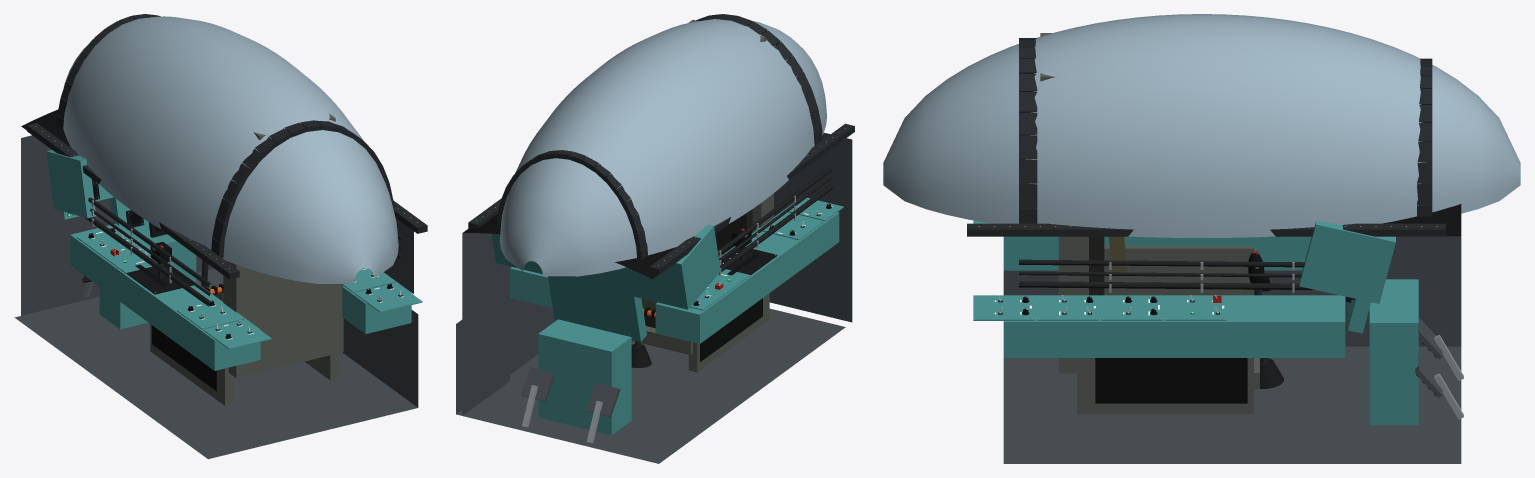
File: kit_flanker.glb
3 renders of one model, left to right at view 1: azimuth 30°, elevation 25°; view 2: azimuth 150°, elevation 25°; view 3: azimuth 270°, elevation 25°, orthographic. The views are drawn at different scales.
Parts seen in each view (by area): view 1: cockpit, CANOPY_GLASS; view 2: cockpit, CANOPY_GLASS, STICK; view 3: cockpit, CANOPY_GLASS, STICK.
Part boxes in pixels (x1,y1,x2,y2): cockpit: [14, 14, 427, 459]; CANOPY_GLASS: [63, 16, 398, 283]; cockpit: [456, 14, 854, 463]; CANOPY_GLASS: [499, 19, 826, 276]; STICK: [631, 298, 651, 367]; cockpit: [967, 33, 1463, 463]; CANOPY_GLASS: [883, 14, 1520, 237]; STICK: [1248, 250, 1283, 388].
Size of the model in its own units: 0.94 by 1.37 by 2.09.
